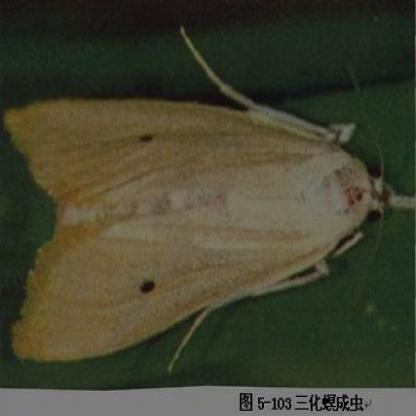stem-borer: (0, 26, 416, 374)
